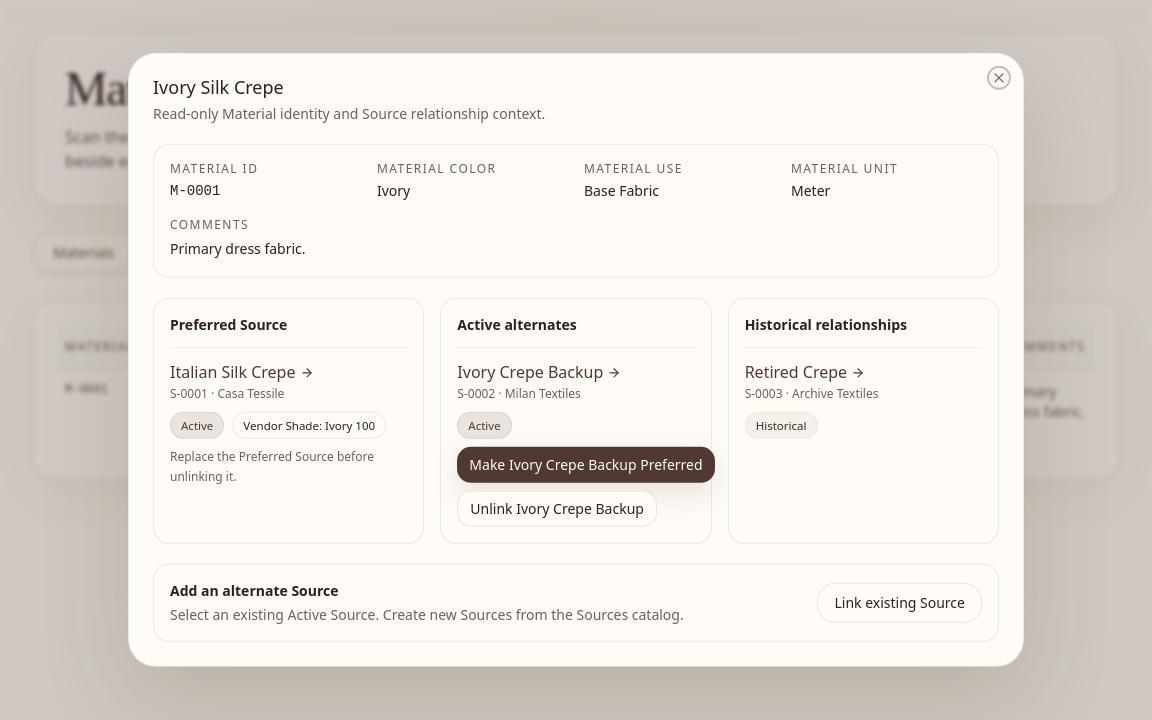
Scenario: materials route › keeps the Dialog open and explains a link failure
This screenshot has width=1152, height=720.
Click the button "Link existing Source" at x=900, y=603, box [817,583,982,623]
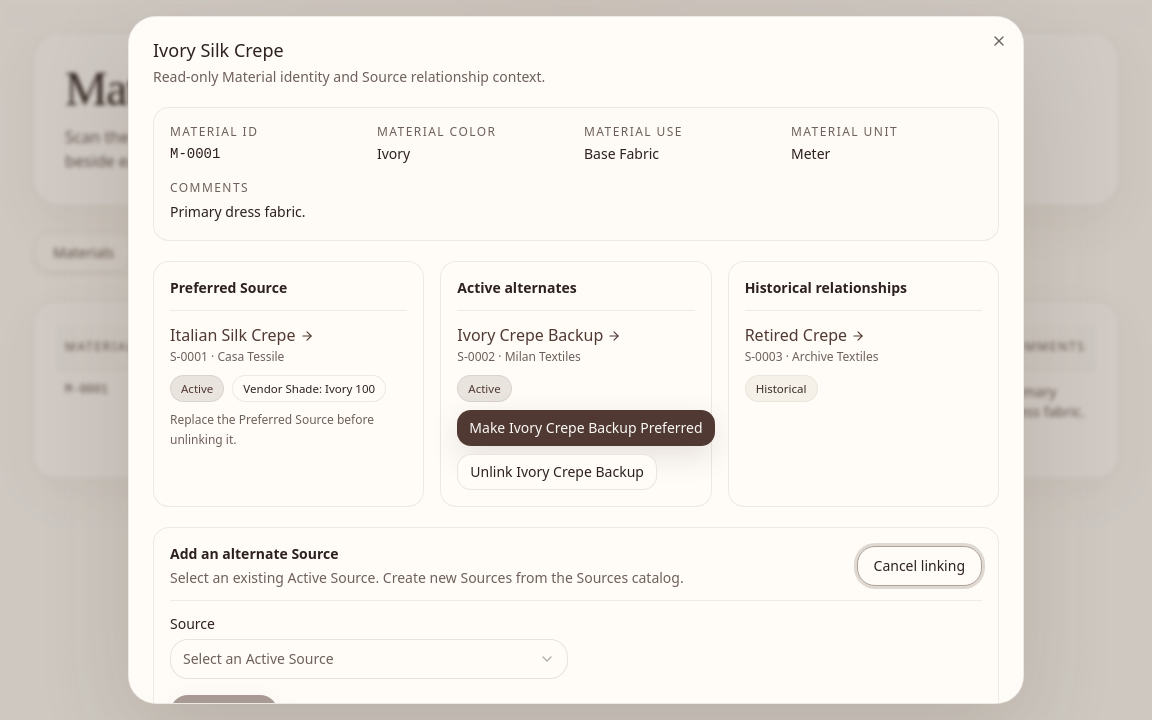
Click the dropdown labelled "Source" at x=258, y=659, box [170,639,568,679]
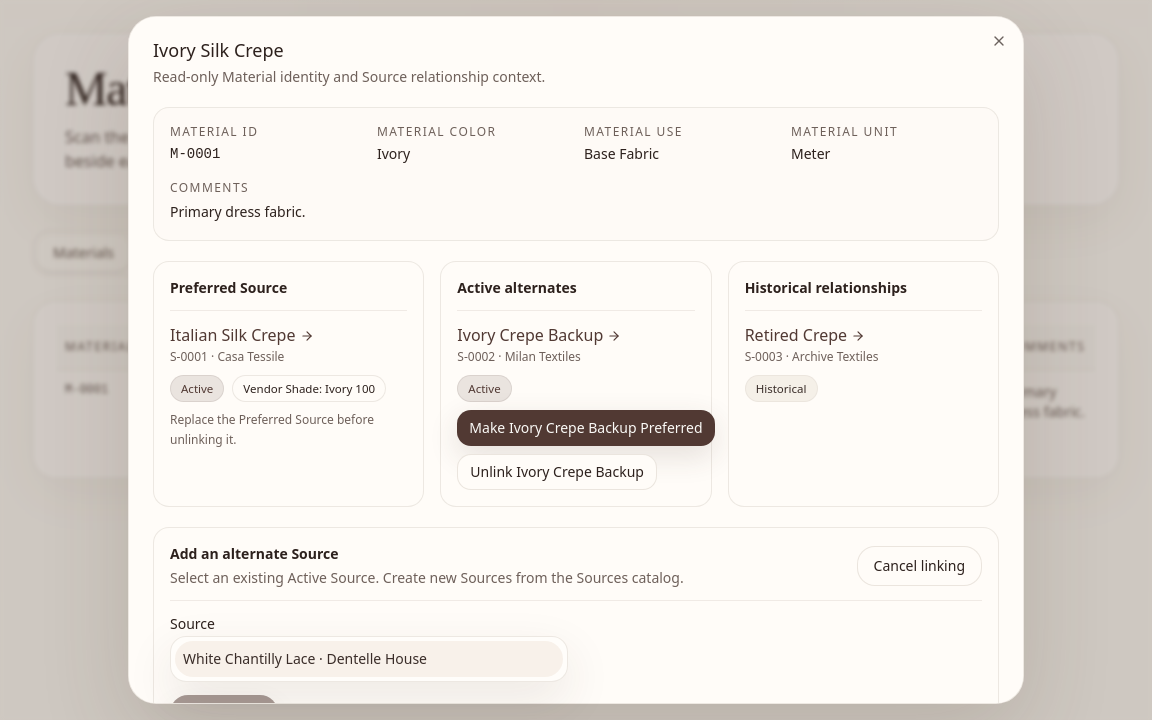
Click the option "White Chantilly Lace · Dentelle House" at x=369, y=659, box [175,641,563,677]
(page scrolled)
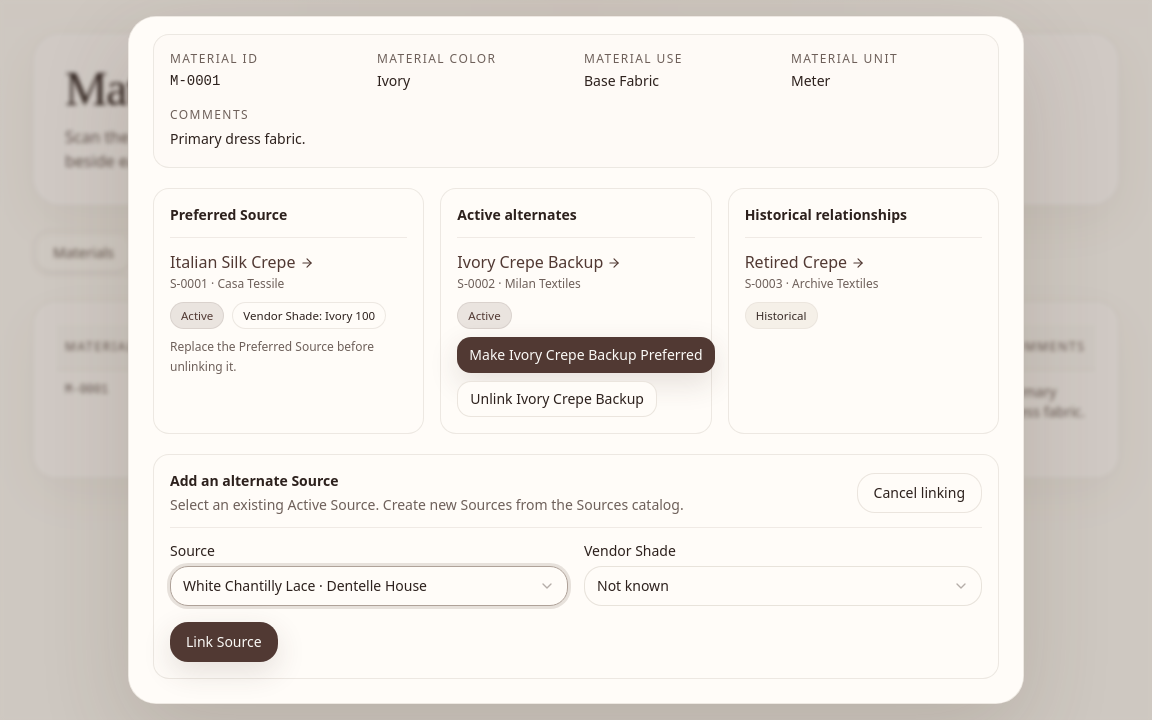
Click the button "Link Source" at x=224, y=642, box [170,622,278,662]
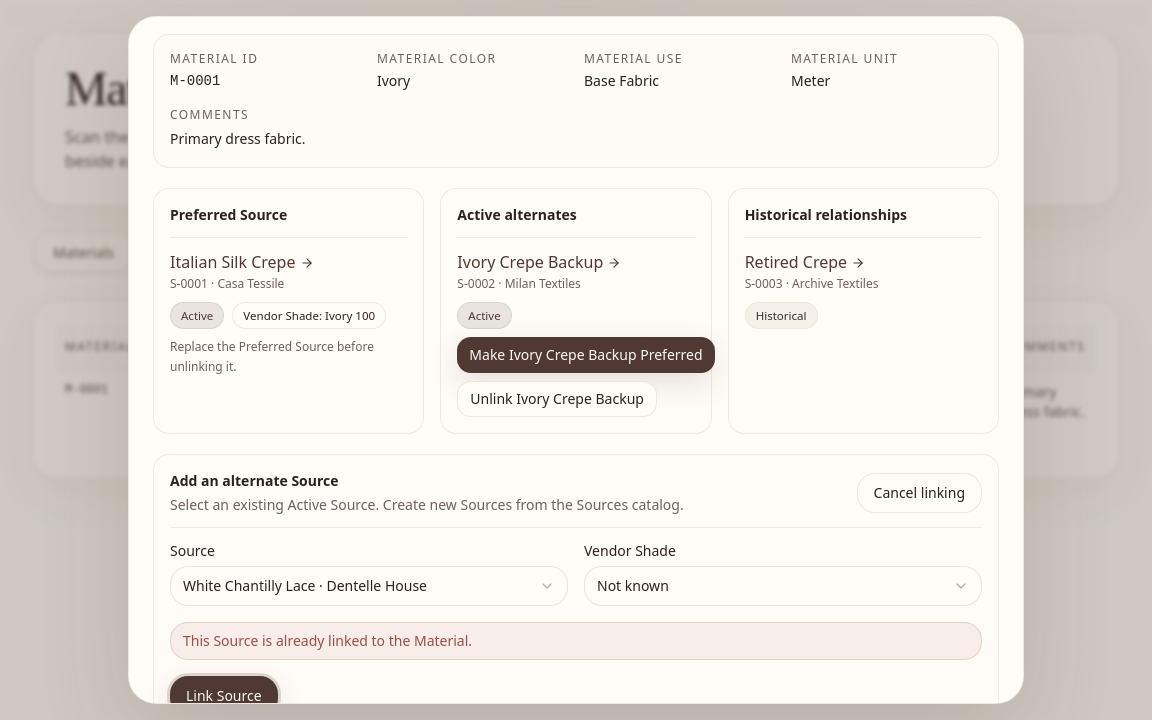
Expected: the message reads "This Source is already linked to the Material.", [183,631,472,650]
